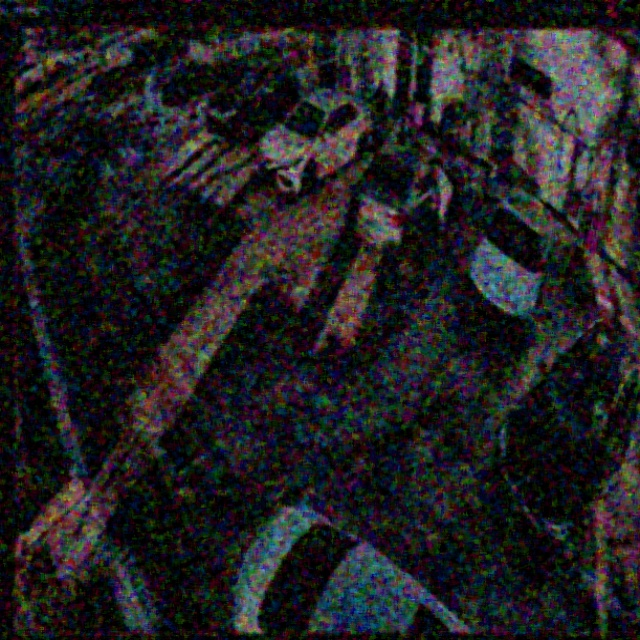Car: (349, 136, 467, 256), (468, 187, 553, 345), (257, 91, 371, 189), (205, 58, 301, 147)
